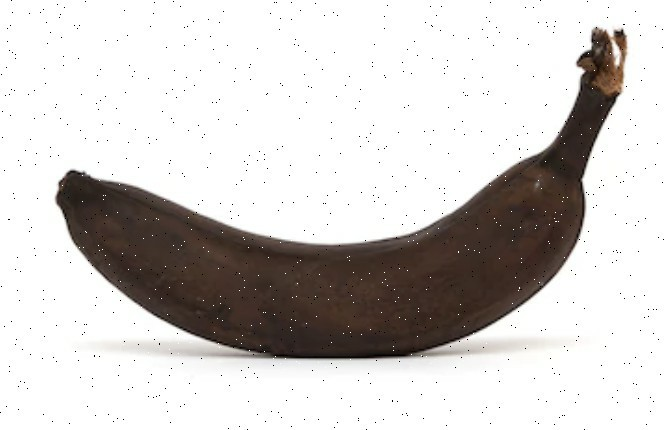rotten_banana: (54, 52, 612, 356)
